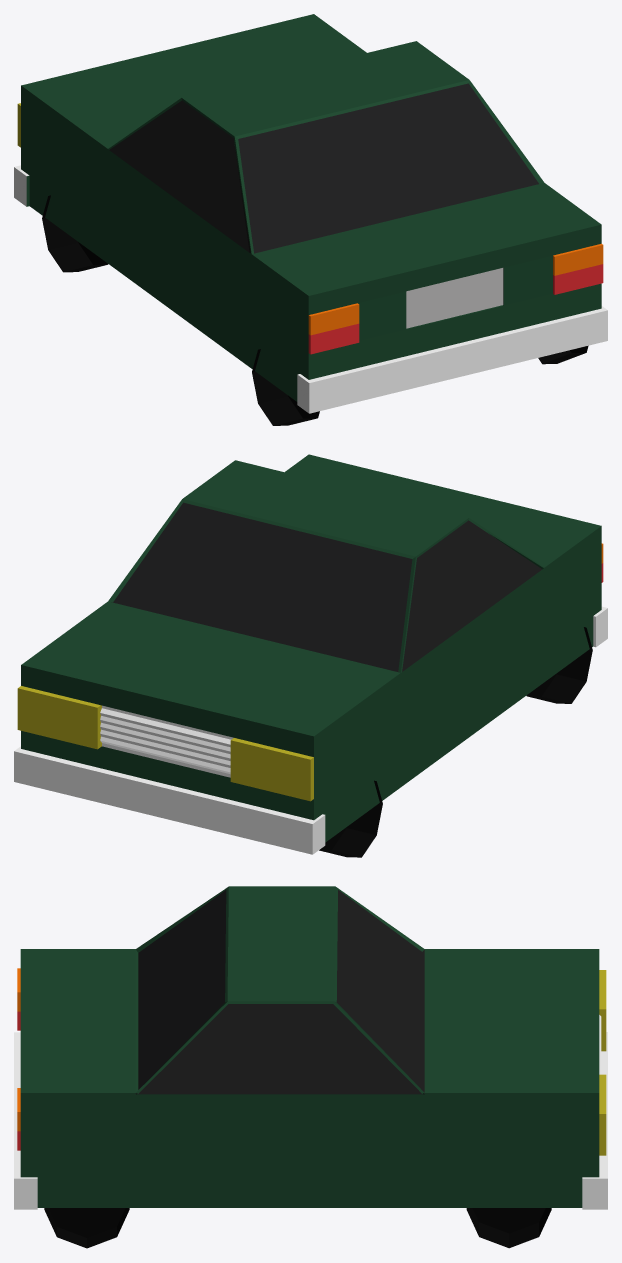
Rendered from base-car.glb.
3 renders of one model, top to bottom at view 1: azimuth 30°, elevation 25°; view 2: azimuth 150°, elevation 25°; view 3: azimuth 270°, elevation 25°, orthographic.
Parts seen in each view (by area): view 1: car; view 2: car; view 3: car.
Boxes of the visible parts, x1,y1,x2,y2 form: car: [14, 14, 607, 425]; car: [14, 454, 607, 857]; car: [14, 886, 607, 1248].
Bounding box in the file's own units: 2.04 × 1.53 × 3.49.
